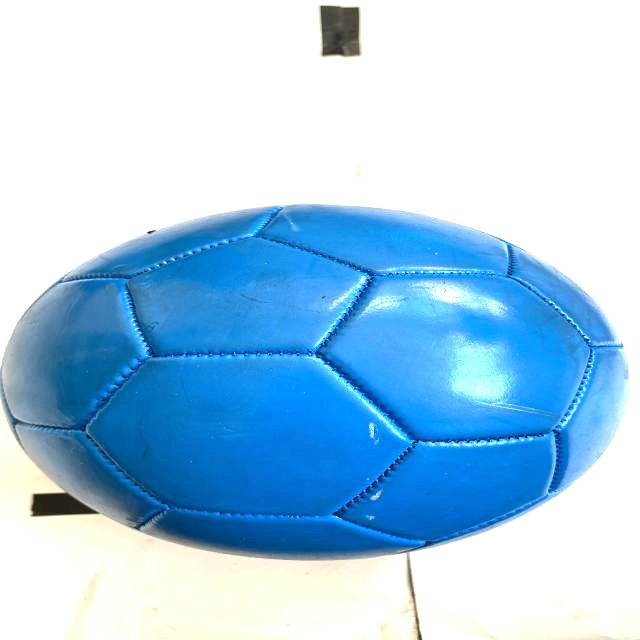blue_ball: (28, 206, 624, 554)
